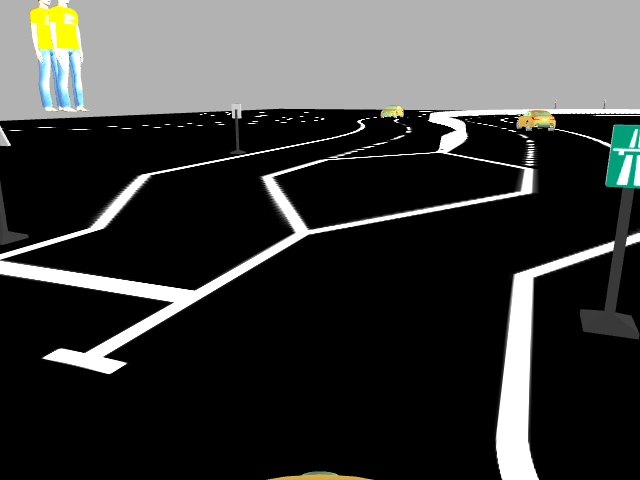HighwayEntrance: (605, 120, 639, 190)
